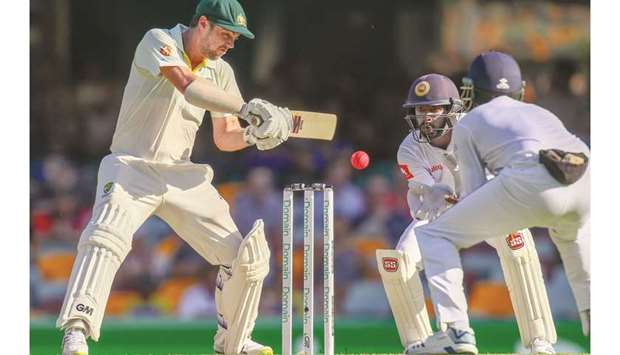Cutshot: (57, 1, 387, 355)
